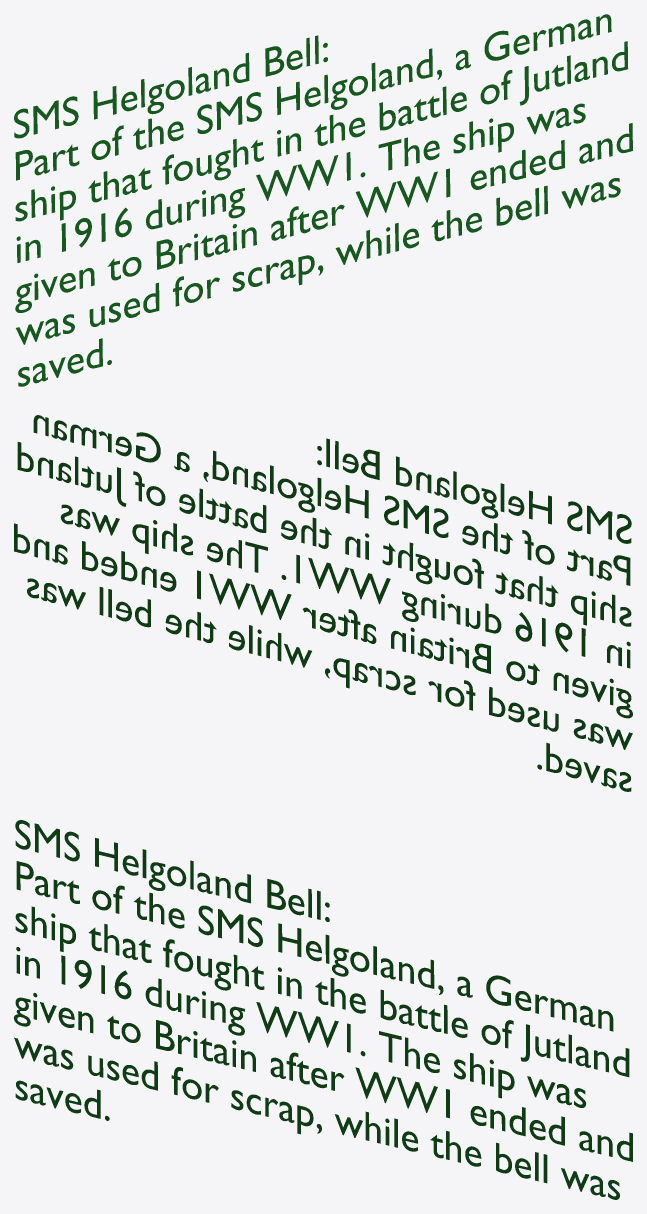
File: Bell-text.gltf
3 renders of one model, top to bottom at view 1: azimuth 30°, elevation 25°; view 2: azimuth 150°, elevation 25°; view 3: azimuth 330°, elevation 25°, orthographic.
Parts seen in each view (by area): view 1: Text; view 2: Text; view 3: Text.
Boxes of the visible parts, x1,y1,x2,y2 form: Text: (14, 14, 632, 386); Text: (14, 415, 632, 791); Text: (14, 820, 632, 1199).
Bounding box in the file's own units: 1.94 × 0.8368 × 0.0212.
